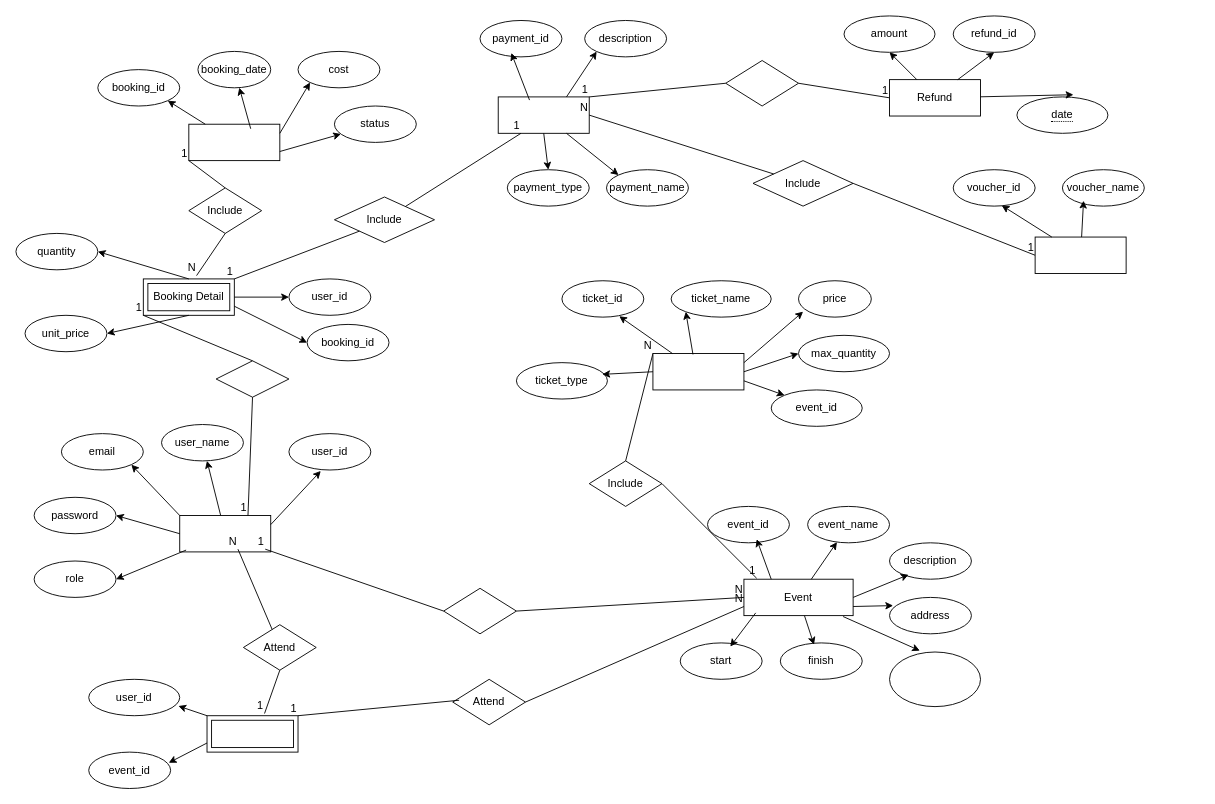
The diagram is 1215 pixels wide and 804 high, and some of its shapes have lost their labels. Each missing label, with the centre of its shape:
"Attendance" belongs at [252,733].
"Book" belongs at [252,378].
"Booking" belongs at [234,142].
"has" belongs at [762,83].
"Organize" belongs at [479,610].
"Payment" belongs at [543,114].
"Ticket" belongs at [698,371].
"User" belongs at [225,533].
"user_id (organizer)" belongs at [935,679].
"Voucher" belongs at [1080,254].
